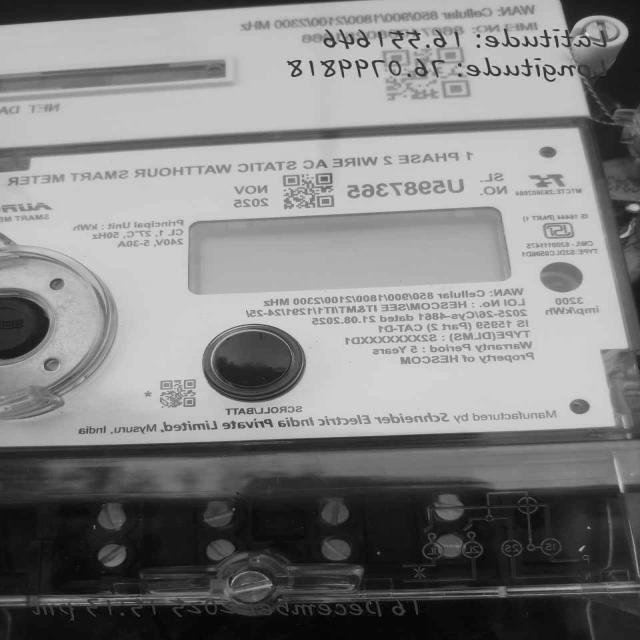meter: (0, 0, 629, 447)
